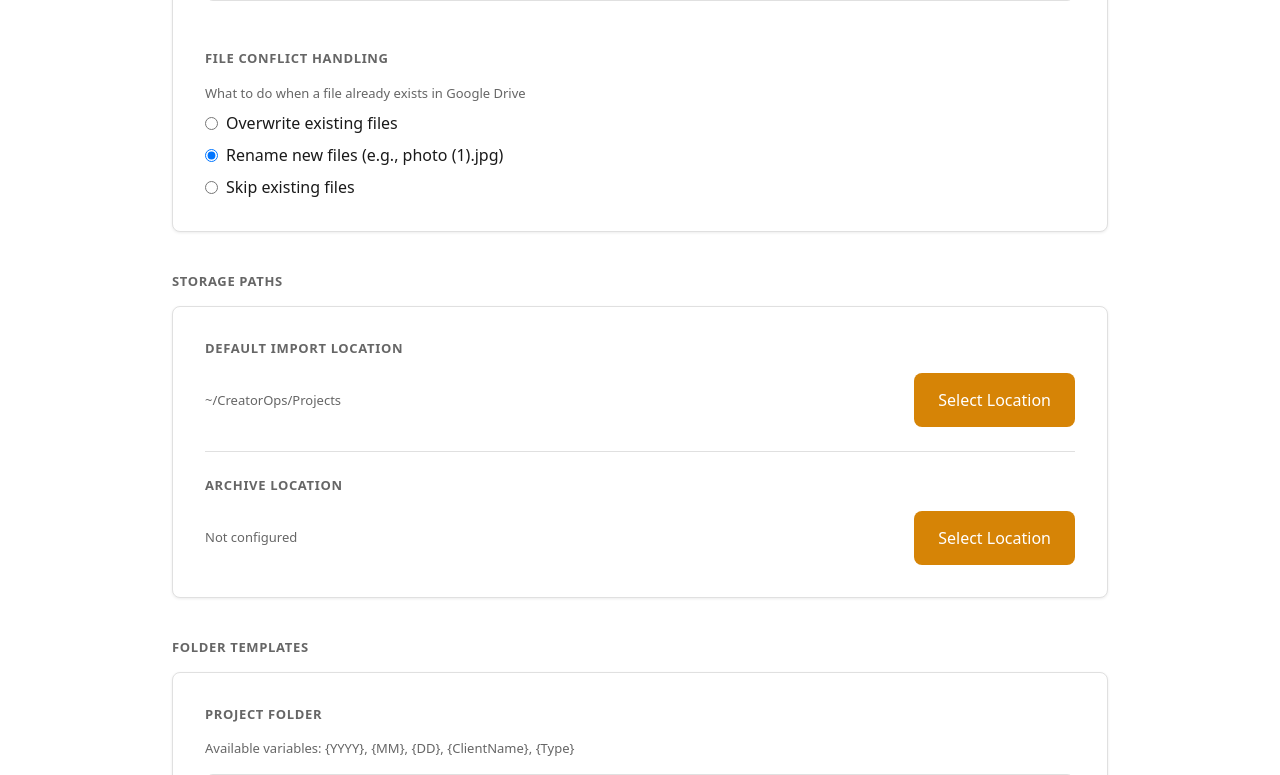
settings › selects default import location
The image size is (1280, 775).
(page scrolled)
Click the button "Select Location" in the row of "~/CreatorOps/Projects".
click(995, 400)  # box [914,373,1075,427]
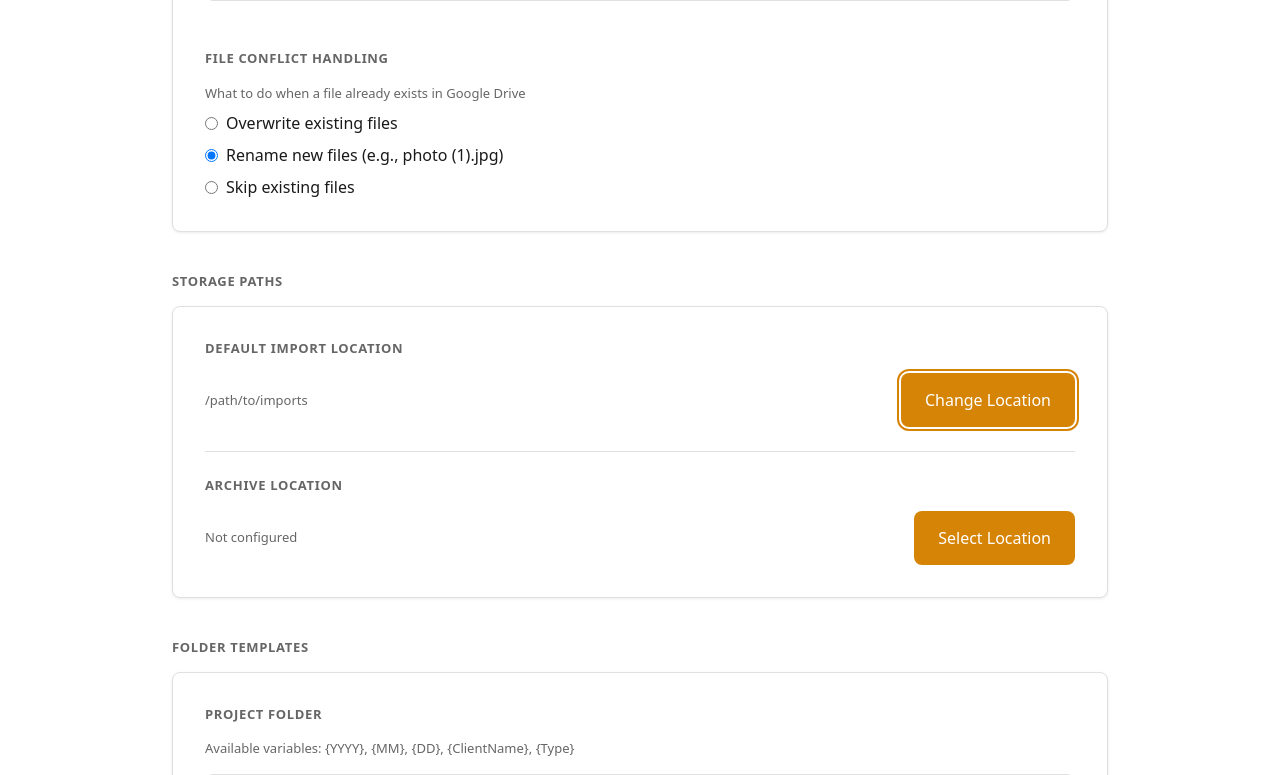
Result: the text "/path/to/imports" is shown at [205,391,308,410]
